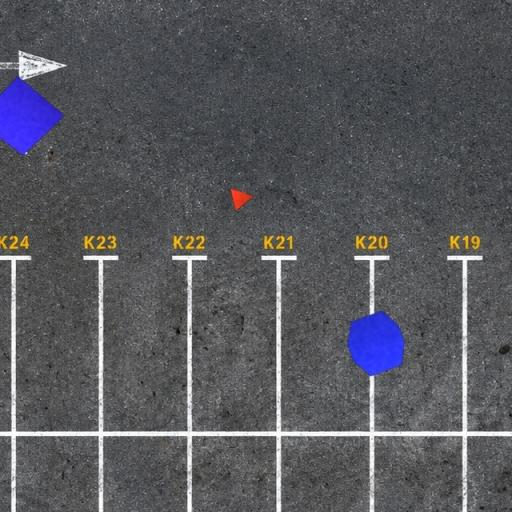BLUE_SQUARE: (0, 75, 66, 156)
